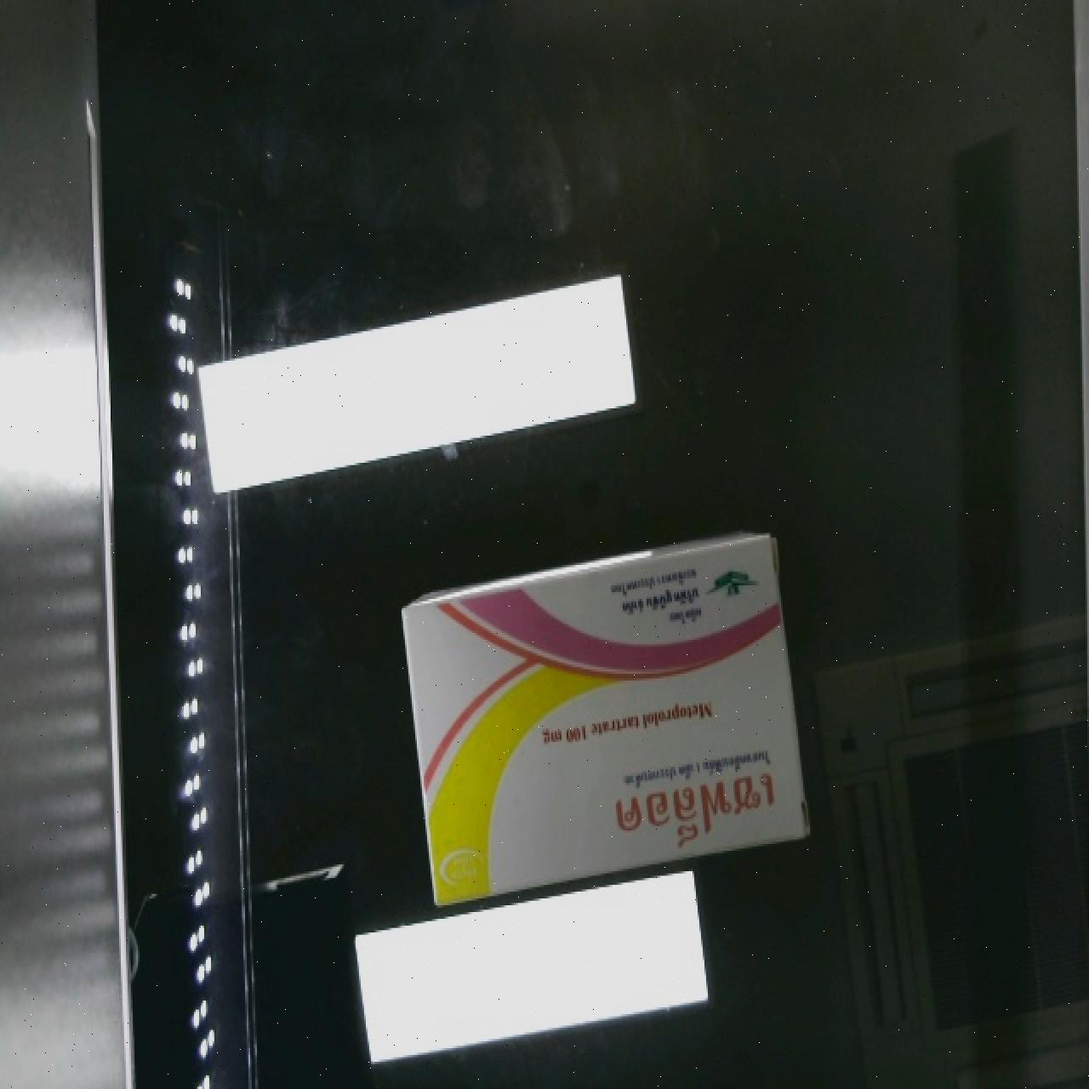medicine_label_obb: (591, 741, 802, 872)
